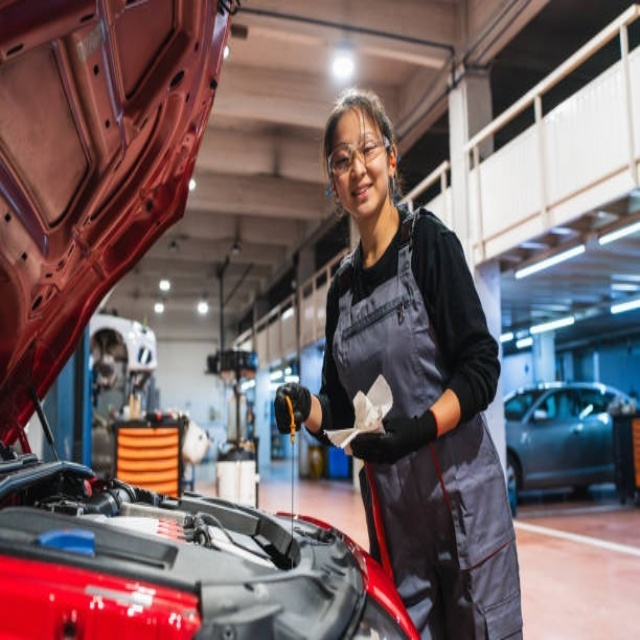Gafas: (327, 136, 387, 178)
Guantes: (349, 408, 438, 464), (273, 382, 313, 435)
Sin_mascara: (343, 180, 376, 209)
